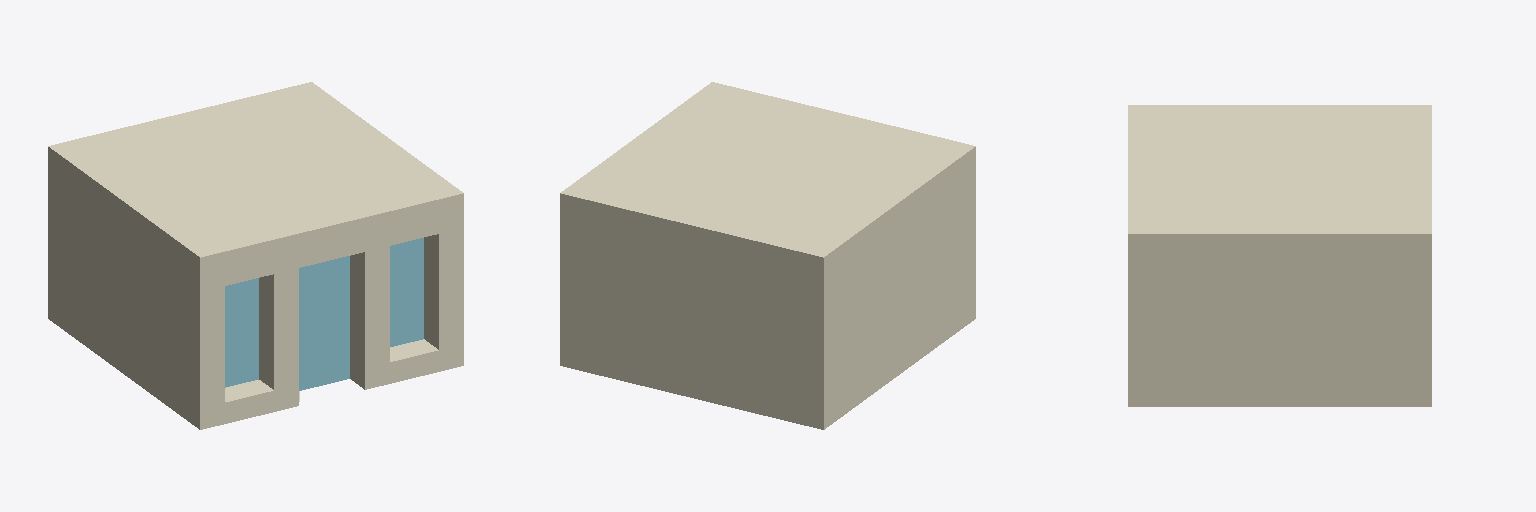
Rendered from houseGround2.obj.
3 renders of one model, left to right at view 1: azimuth 30°, elevation 25°; view 2: azimuth 150°, elevation 25°; view 3: azimuth 270°, elevation 25°, orthographic.
Parts seen in each view (by area): view 1: Mesh1_Group1_Model.003; view 2: Mesh1_Group1_Model.003; view 3: Mesh1_Group1_Model.003.
Part boxes in pixels (left/top/right/bottom): Mesh1_Group1_Model.003: left=48, top=82, right=463, bottom=429; Mesh1_Group1_Model.003: left=560, top=82, right=975, bottom=429; Mesh1_Group1_Model.003: left=1128, top=105, right=1431, bottom=406.
Bounding box in the file's own units: 1 × 0.625 × 1.